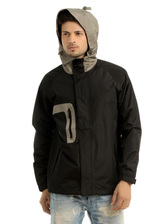clothoes: (23, 5, 149, 199)
